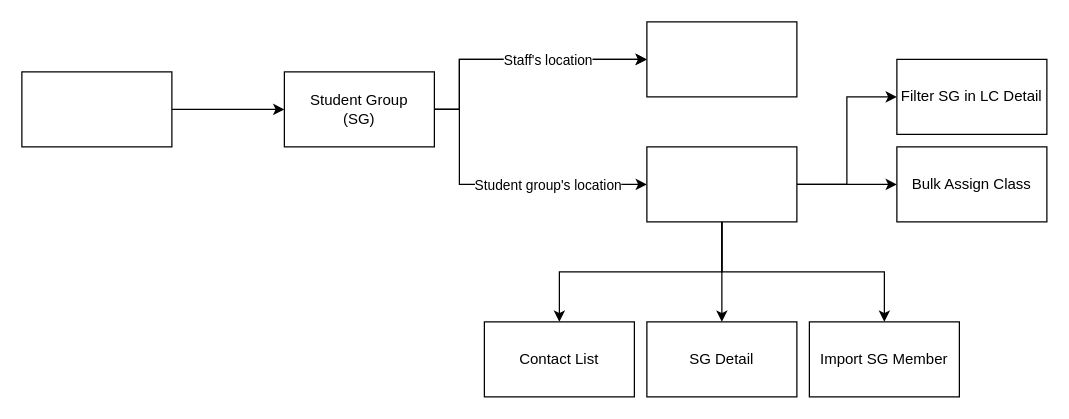
The diagram is 1069 pixels wide and 419 high, and some of its shapes have lost their labels. The shapes that lost their labels are listed below. From the top down, each one's centre as x and y in pixels, then its label:
point (721, 59): Student Group Staff Association
point (96, 109): "Manage Student Group" PS
point (721, 184): Student Group Members
